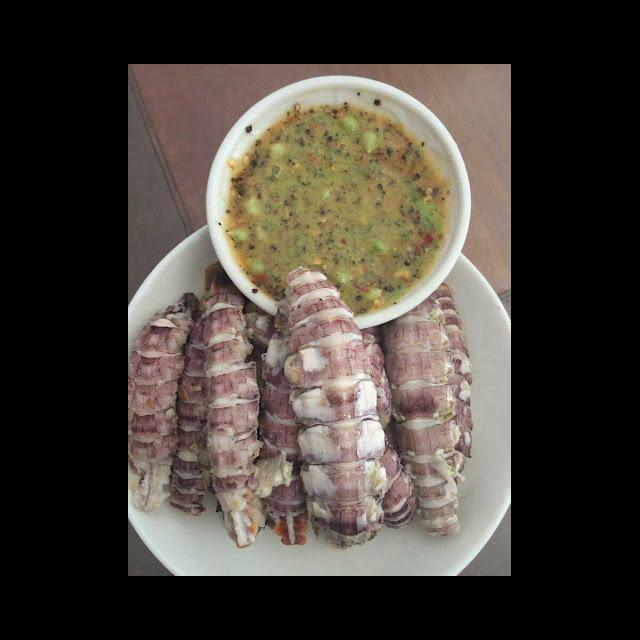tom tit: (274, 263, 392, 553), (382, 288, 472, 543), (198, 255, 274, 552), (130, 287, 204, 515), (260, 298, 316, 550)
